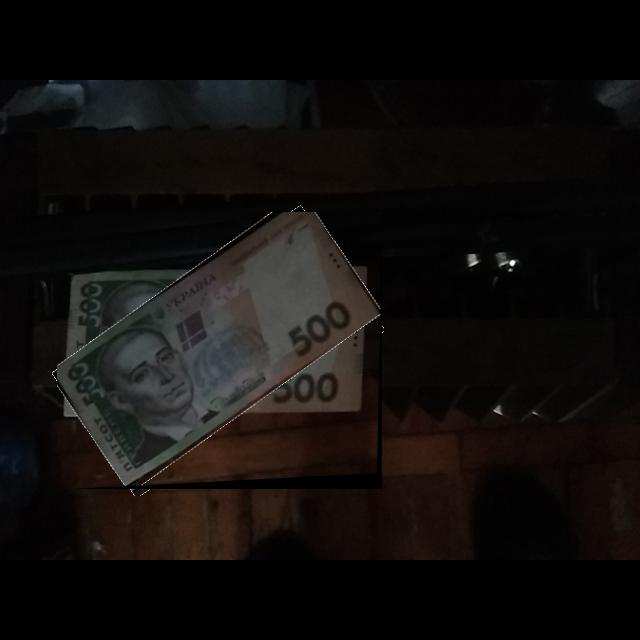500uah: (57, 212, 381, 488)
